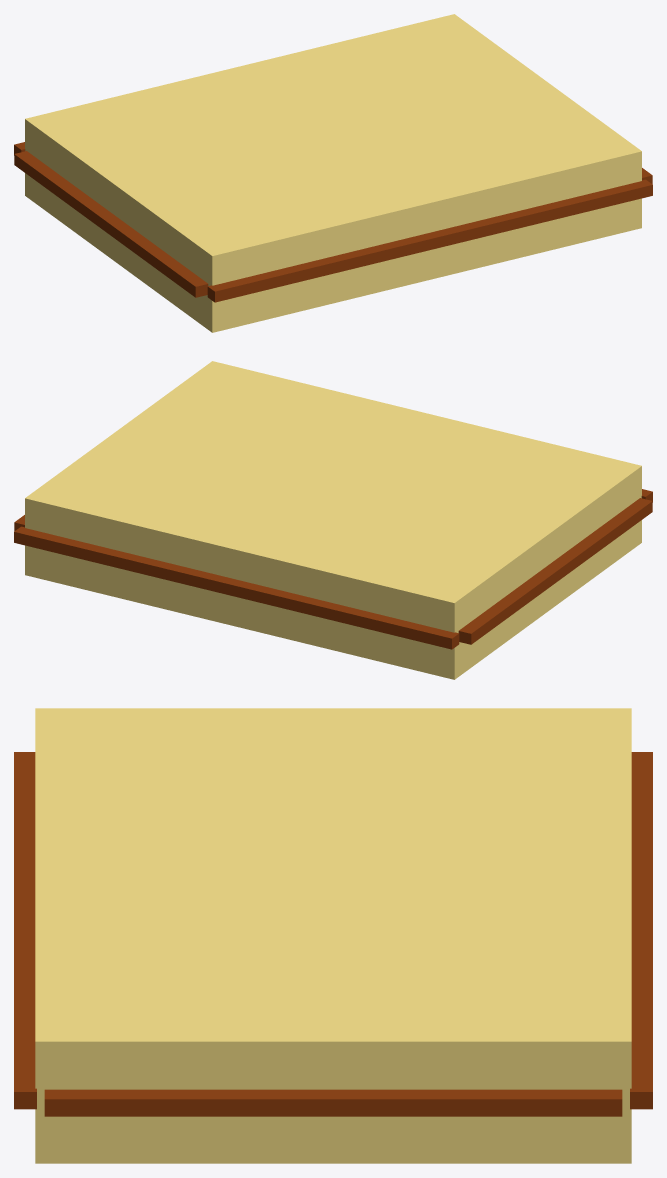
Rendered from toy_barn_hay_bale.glb.
3 views of the same model, one above another, from view 1: azimuth 30°, elevation 25°; view 2: azimuth 150°, elevation 25°; view 3: azimuth 270°, elevation 25° (orthographic). The views are drawn at different scales.
Visible parts, largest first — view 1: solid_1, solid_3, solid_4; view 2: solid_1, solid_2, solid_4; view 3: solid_1, solid_5, solid_2, solid_3.
Boxes of the visible parts, <box> form: solid_1: <box>25,14,641,332</box>; solid_3: <box>207,179,652,302</box>; solid_4: <box>14,151,208,297</box>; solid_1: <box>25,361,641,679</box>; solid_2: <box>14,526,459,649</box>; solid_4: <box>458,498,652,644</box>; solid_1: <box>35,708,631,1163</box>; solid_5: <box>44,1089,622,1116</box>; solid_2: <box>630,752,652,1109</box>; solid_3: <box>14,752,36,1109</box>.
Bounding box in the file's own units: 4.36 × 0.7 × 3.32.
